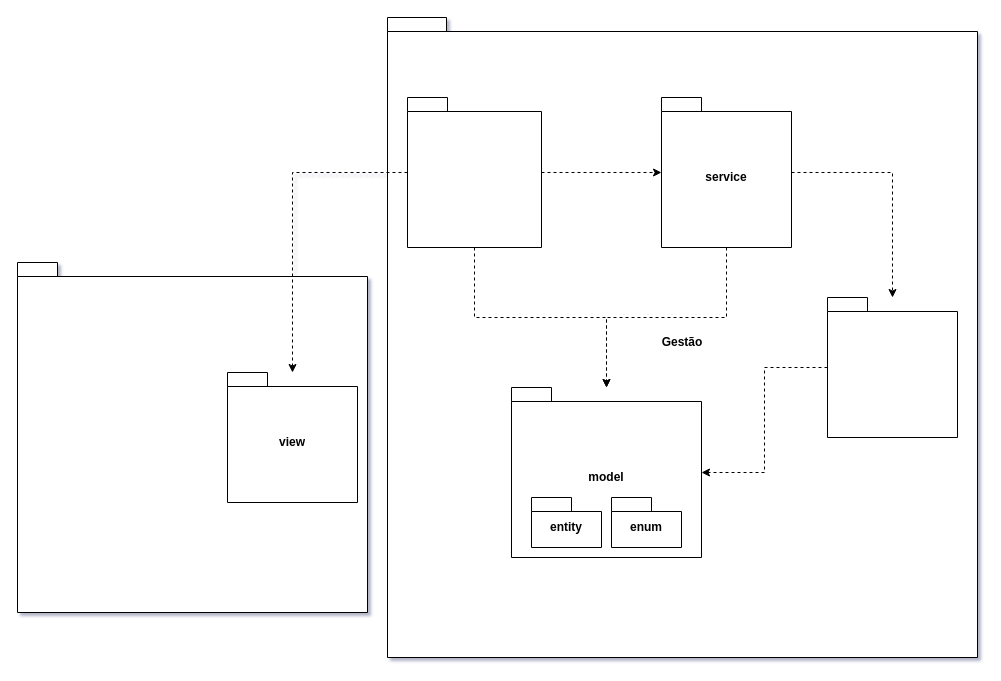
This 1001x681 diagram has some shape labels left out. Each missing label, with the box of its shape:
controller: (406, 96, 542, 248)
repository: (826, 296, 958, 438)
Web: (16, 262, 368, 612)
